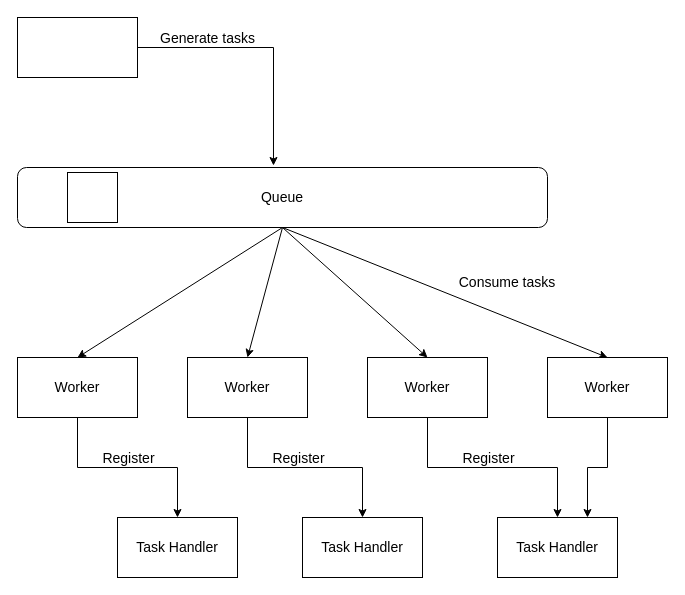
The diagram is 685 pixels wide and 595 high, and some of its shapes have lost their labels. The centre of each missing label's shape, as x and y in pixels:
"Manager" goes at point (77, 47).
"Task" goes at point (92, 197).
